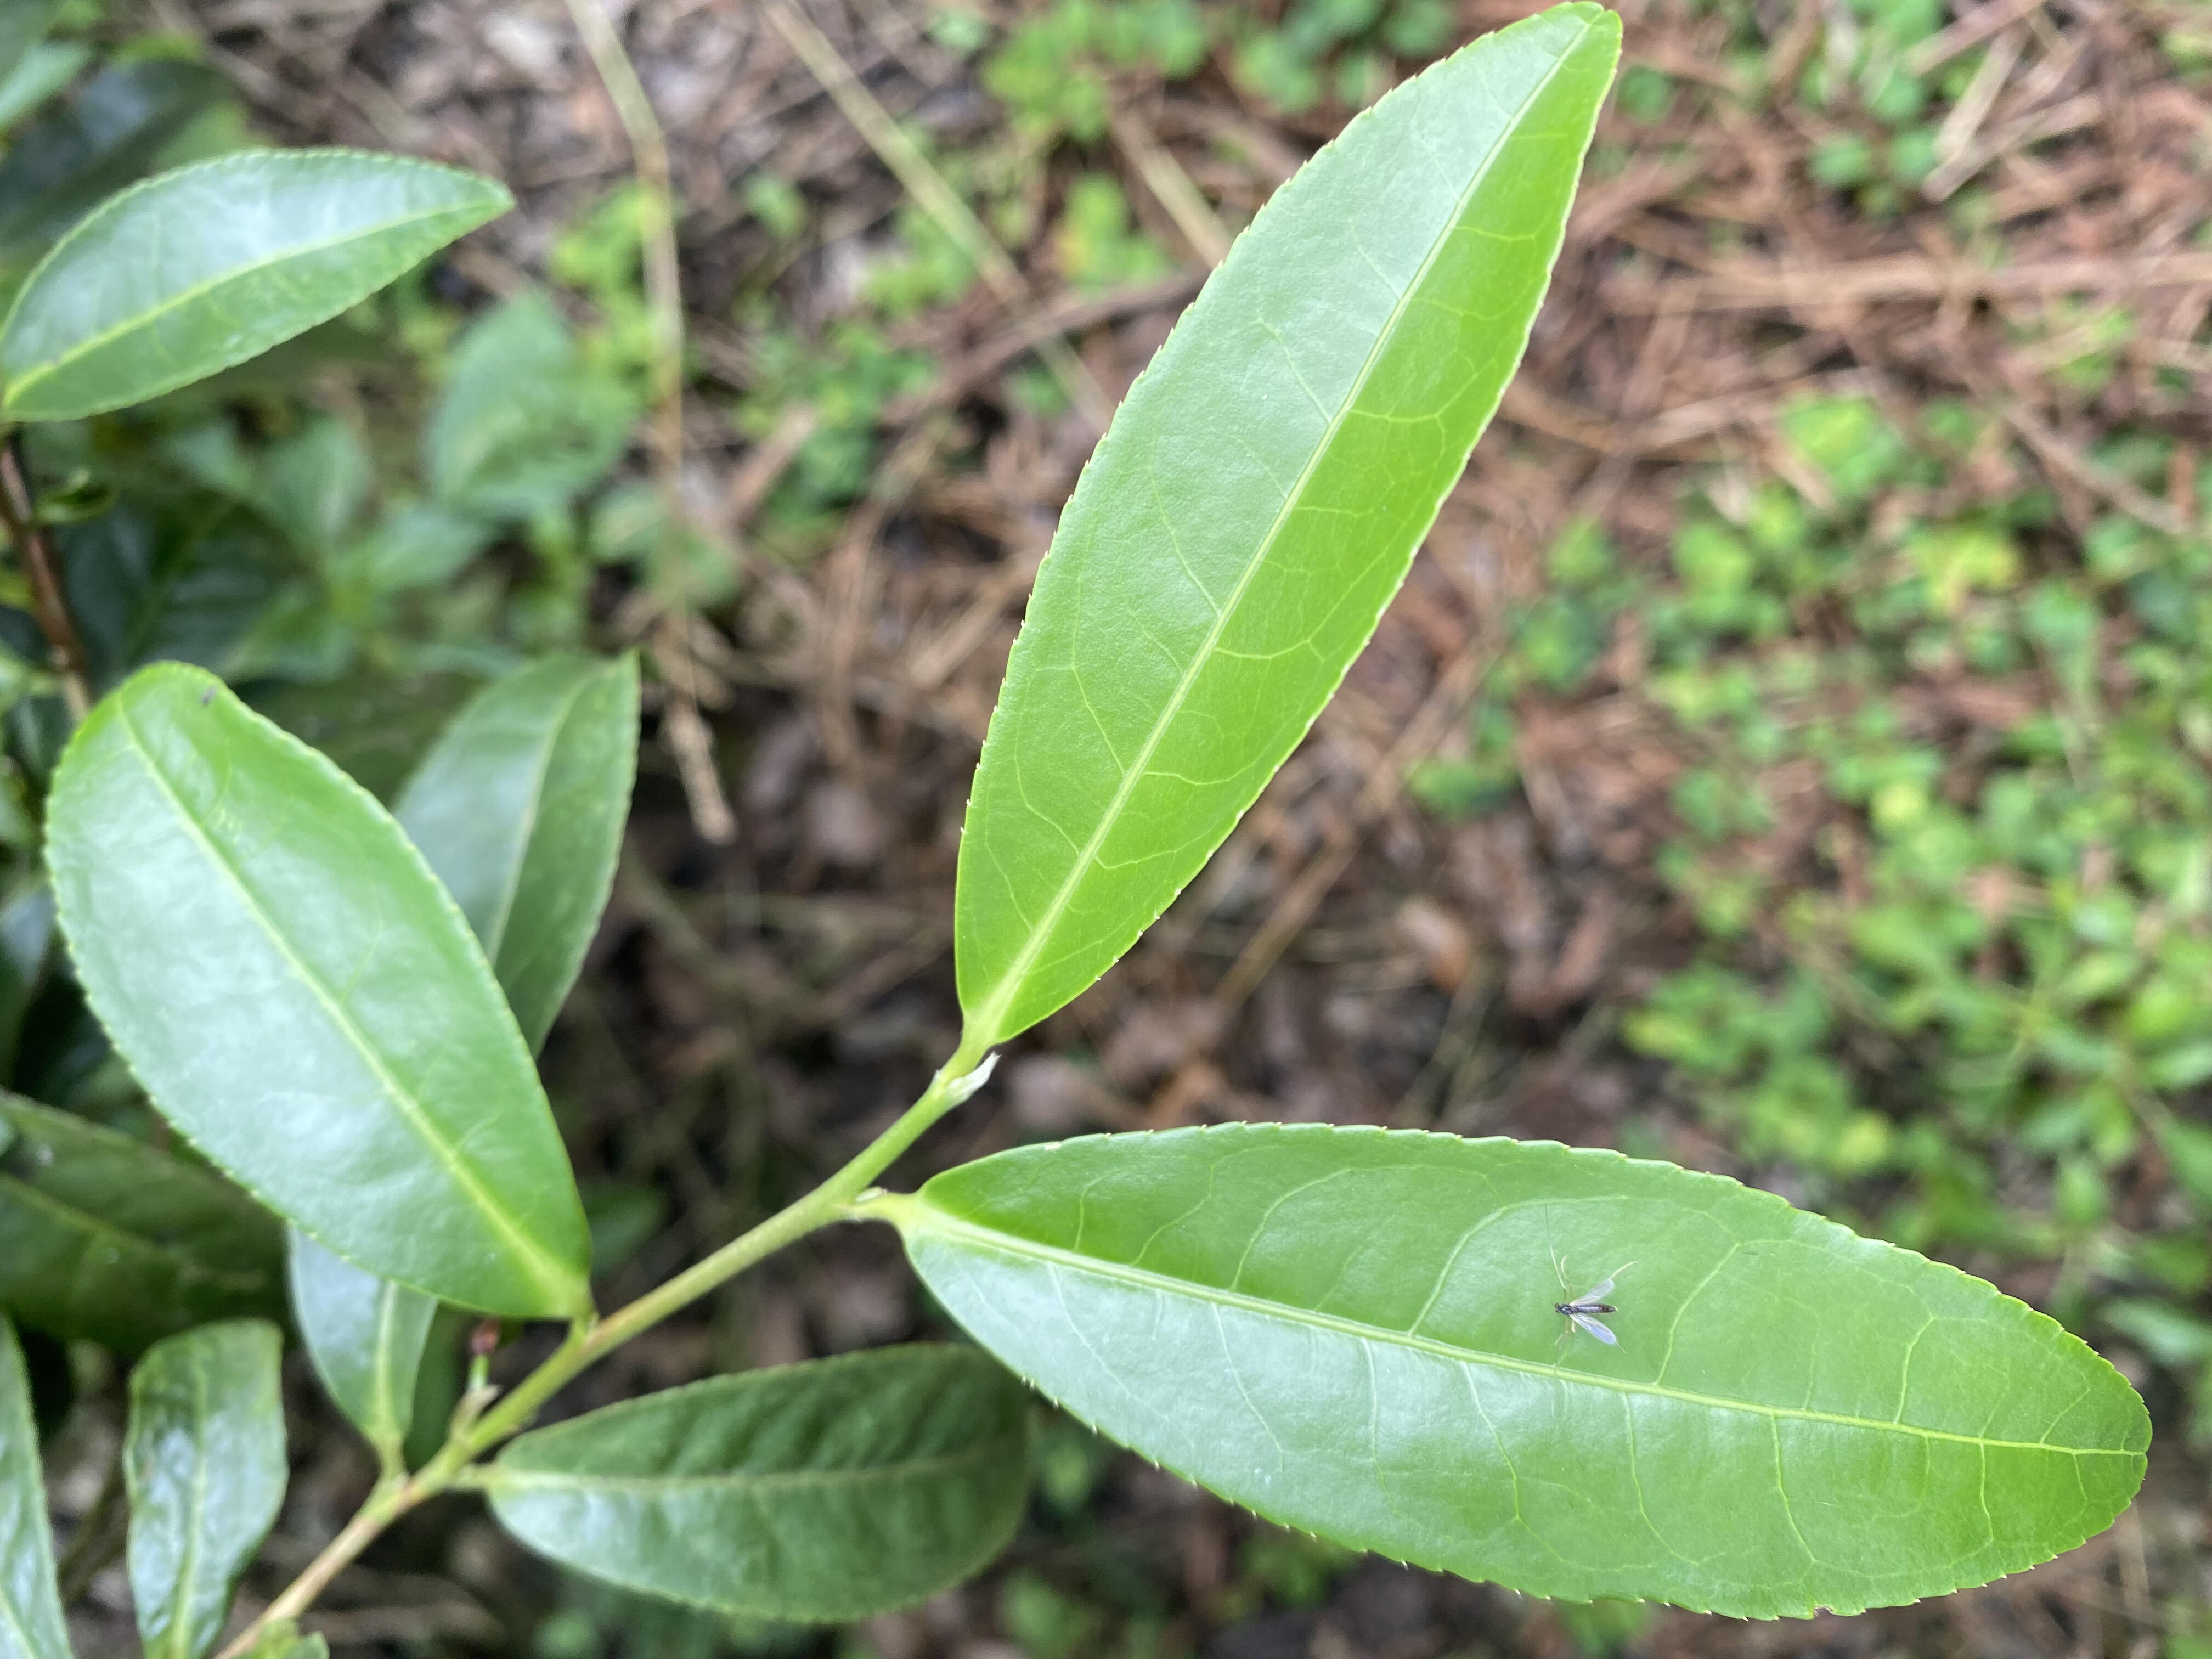healthy: (949, 2, 1627, 1033), (906, 1121, 2153, 1621), (42, 657, 590, 1316), (3, 148, 516, 429)
